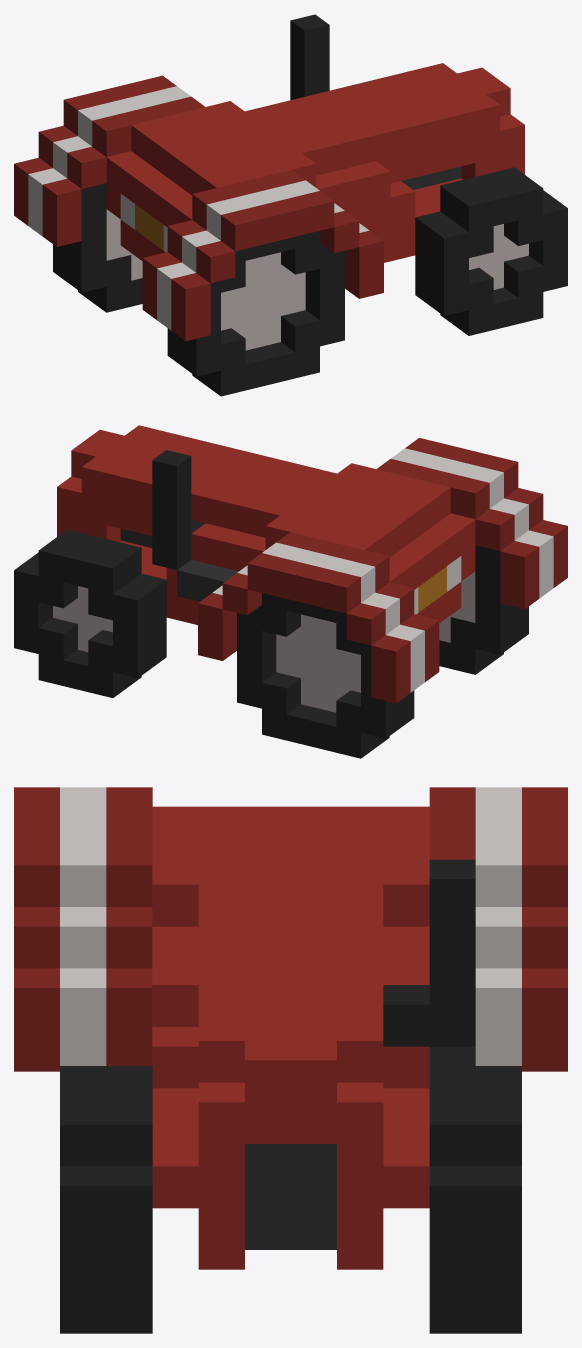
The model's file is granjafinal_tractor.obj.
3 views of the same model, one above another, from view 1: azimuth 30°, elevation 25°; view 2: azimuth 150°, elevation 25°; view 3: azimuth 270°, elevation 25° (orthographic). The views are drawn at different scales.
Size of the model in its own units: 1.6 by 0.9 by 1.2.
1 material, 1 textured.
